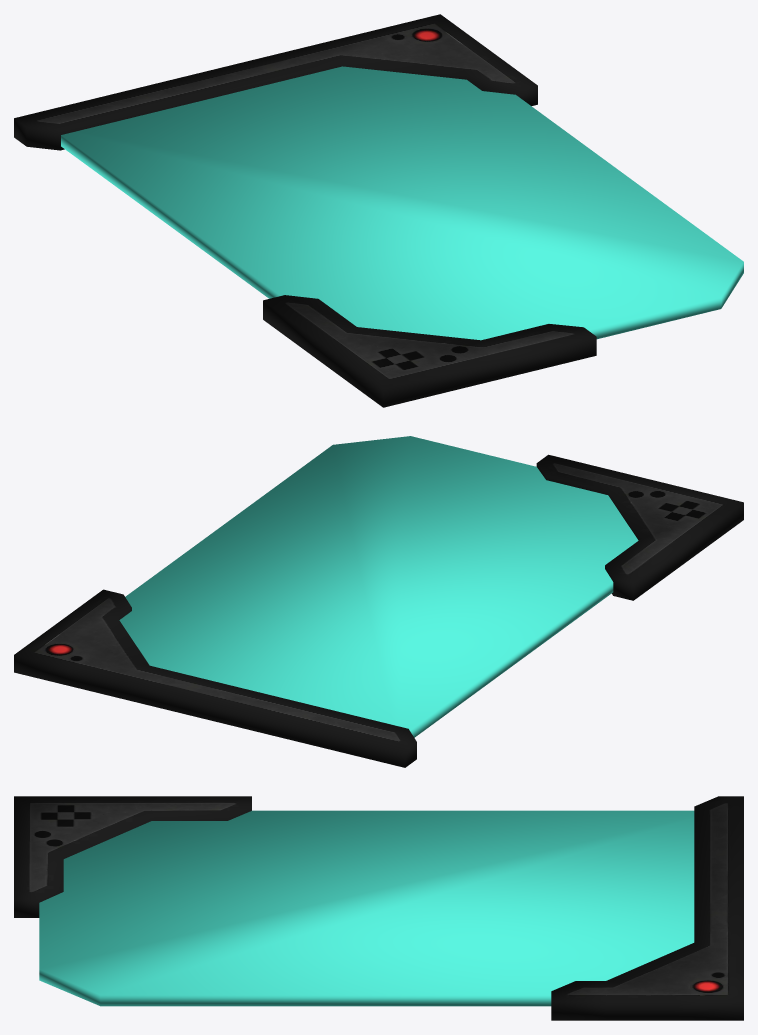
Rendered from low_poly_sci-fi_tablet.glb.
3 renders of one model, top to bottom at view 1: azimuth 30°, elevation 25°; view 2: azimuth 150°, elevation 25°; view 3: azimuth 270°, elevation 25°, orthographic. The views are drawn at different scales.
Visible parts, largest first — view 1: defaultMaterial, defaultMaterial.002; view 2: defaultMaterial, defaultMaterial.002; view 3: defaultMaterial, defaultMaterial.002.
Part boxes in pixels (x1,y1,x2,y2): defaultMaterial: (61, 66, 743, 340); defaultMaterial.002: (14, 14, 596, 407); defaultMaterial: (119, 436, 638, 737); defaultMaterial.002: (14, 454, 743, 767); defaultMaterial: (39, 810, 694, 1006); defaultMaterial.002: (14, 796, 743, 1020).
Bounding box in the file's own units: 1.33 × 0.0573 × 2.
3 materials, 2 textured.
